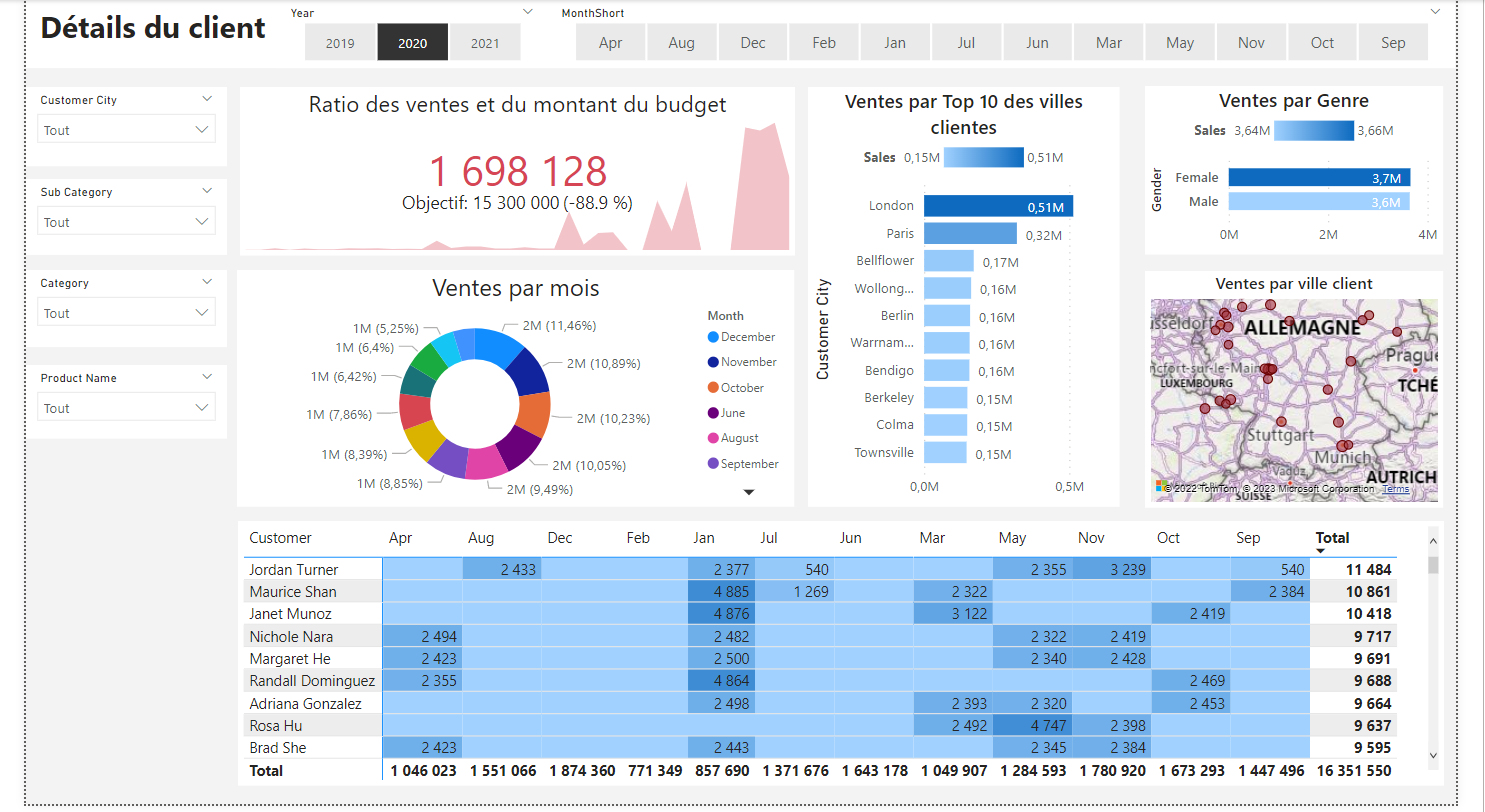

This screenshot's page, from the dashboard's own definition file:
{"tool":"powerbi","page":{"name":"Détails du client","canvas":[1280,720],"ordinal":1},"visuals":[{"type":"textbox","box":[0,0,1280,61.1],"z":0},{"type":"slicer","fields":{"Values":["DIM_Customer.Customer City"]},"box":[0,77.8,179.6,70.6],"z":1000},{"type":"slicer","fields":{"Values":["DIM_Products.Sub Category"]},"box":[0,160.4,179.6,68.3],"z":2000},{"type":"slicer","fields":{"Values":["DIM_Products.Product Category"]},"box":[0,241.9,179.6,69.4],"z":3000},{"type":"slicer","fields":{"Values":["DIM_Products.Product Name"]},"box":[0,326.9,179.6,65.9],"z":4000},{"type":"slicer","fields":{"Values":["Dim_Date_Excel.Year"]},"box":[223.9,0,243.1,61.1],"z":5000},{"type":"slicer","fields":{"Values":["Dim_Date_Excel.MonthShort"]},"box":[467,0,813,61.1],"z":6000},{"type":"kpi","title":"Ratio des ventes et du montant du budget","fields":{"Indicator":["Key Measures.Sales"],"Goal":["Key Measures.Budget_Amount"],"TrendLine":["FactInternetSale.SalesAmount"]},"box":[191.6,77.8,496.9,150.9],"z":7000},{"type":"donutChart","title":"Ventes par mois","fields":{"Y":["Key Measures.Sales"],"Category":["Dim_Date_Excel.Month"]},"box":[189.2,241.9,499.3,211.9],"z":8000},{"type":"barChart","title":"Ventes par Top 10 des villes clientes","fields":{"Y":["Key Measures.Sales"],"Category":["DIM_Customer.Customer City"]},"box":[700.5,77.8,279,376],"z":9000},{"type":"barChart","title":"Ventes par Genre","fields":{"Y":["Key Measures.Sales"],"Category":["DIM_Customer.Gender"]},"box":[1002.5,77.3,267,151.1],"z":10000},{"type":"pivotTable","fields":{"Rows":["DIM_Customer.Full Name"],"Values":["Key Measures.Sales"],"Columns":["Dim_Date_Excel.MonthShort"]},"box":[189.5,466.5,1079.9,236.8],"z":11000},{"type":"map","title":"Ventes par ville client","fields":{"Category":["DIM_Customer.Customer City"],"Size":["Key Measures.Sales"]},"box":[1002.5,242.4,267,212],"z":12000}]}

Visuals, with their boxes in screenshot pixels (x1, y1, x2, y2), scaled from the page's 1280x720 canvas onto the 1485x812 screenshot:
textbox: BBox(0, 0, 1484, 69)
slicer - DIM_Customer.Customer City: BBox(0, 88, 208, 167)
slicer - DIM_Products.Sub Category: BBox(0, 181, 208, 258)
slicer - DIM_Products.Product Category: BBox(0, 273, 208, 351)
slicer - DIM_Products.Product Name: BBox(0, 369, 208, 443)
slicer - Dim_Date_Excel.Year: BBox(260, 0, 542, 69)
slicer - Dim_Date_Excel.MonthShort: BBox(542, 0, 1484, 69)
"Ratio des ventes et du montant du budget" kpi: BBox(222, 88, 799, 258)
"Ventes par mois" donutChart: BBox(220, 273, 799, 512)
"Ventes par Top 10 des villes clientes" barChart: BBox(813, 88, 1136, 512)
"Ventes par Genre" barChart: BBox(1163, 87, 1473, 258)
pivotTable - DIM_Customer.Full Name x Key Measures.Sales: BBox(220, 526, 1473, 793)
"Ventes par ville client" map: BBox(1163, 273, 1473, 512)
